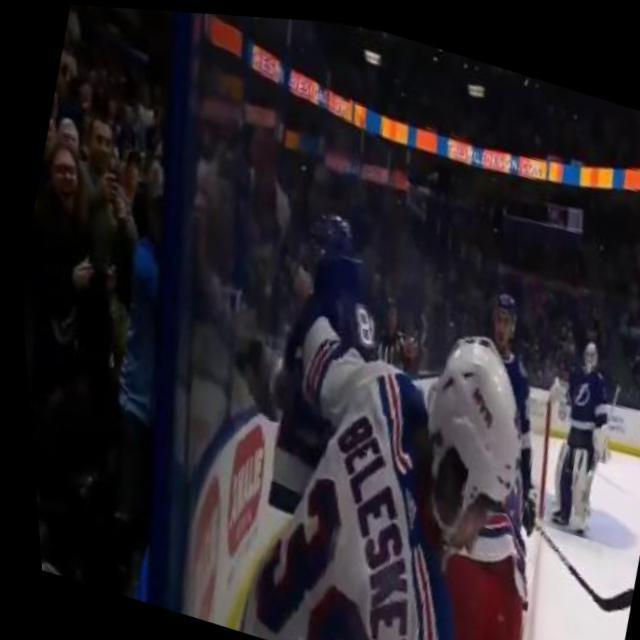fight: (128, 185, 600, 640)
